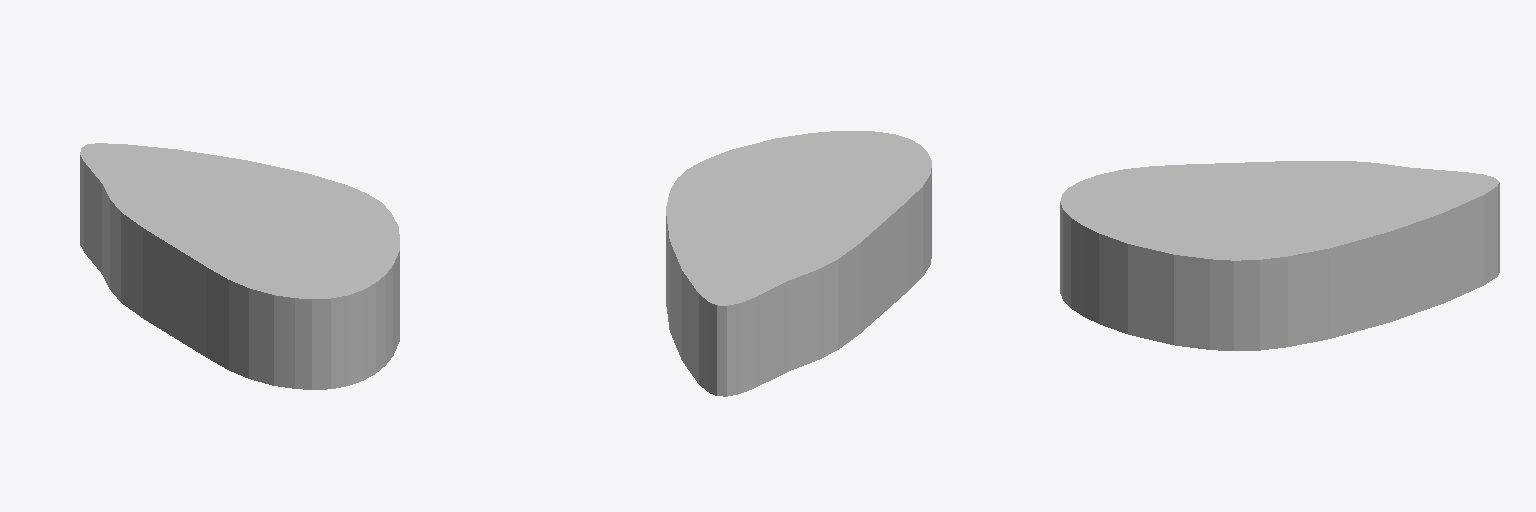
The model's file is srilanka.obj.
3 views of the same model, side by side, from view 1: azimuth 30°, elevation 25°; view 2: azimuth 150°, elevation 25°; view 3: azimuth 270°, elevation 25° (orthographic).
Visible parts, largest first — view 1: srilanka_Curve.146_CUCurve.5105; view 2: srilanka_Curve.146_CUCurve.5105; view 3: srilanka_Curve.146_CUCurve.5105.
Part boxes in pixels (x1,y1,x2,y2): srilanka_Curve.146_CUCurve.5105: (80, 143, 399, 389); srilanka_Curve.146_CUCurve.5105: (666, 131, 931, 396); srilanka_Curve.146_CUCurve.5105: (1060, 161, 1499, 350).
Size of the model in its own units: 0.1184 by 0.05 by 0.2196.